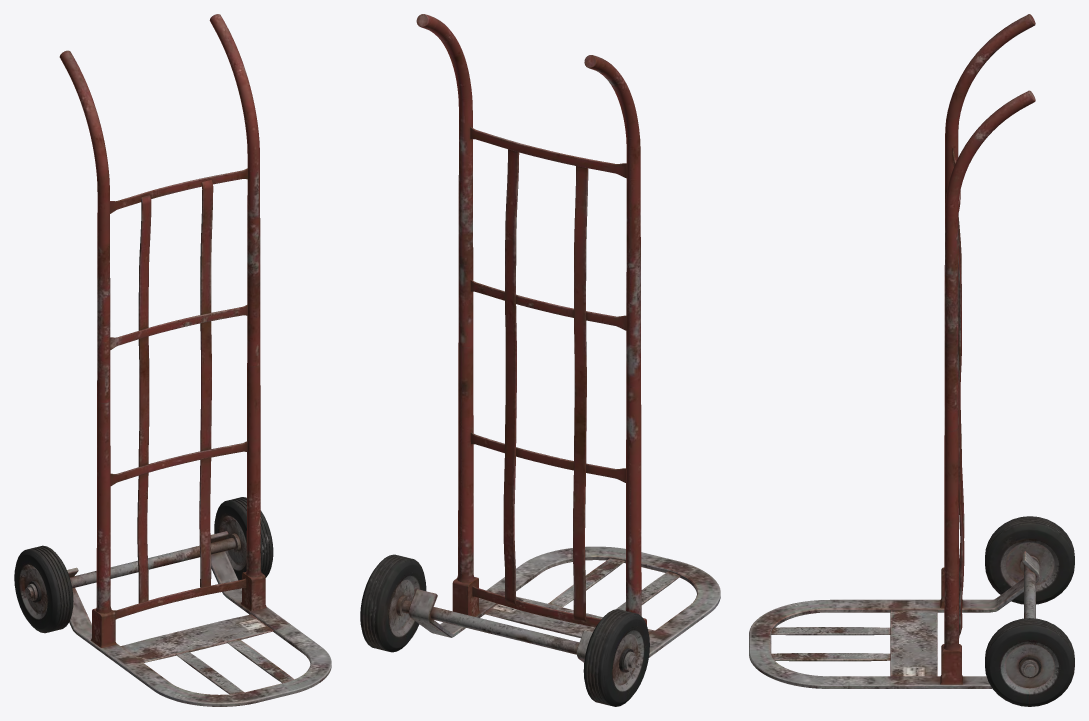
File: hand_truck.glb
3 views of the same model, side by side, from view 1: azimuth 30°, elevation 25°; view 2: azimuth 150°, elevation 25°; view 3: azimuth 270°, elevation 25° (orthographic). The views are drawn at different scales.
Parts seen in each view (by area): view 1: hand_truck; view 2: hand_truck; view 3: hand_truck.
Boxes of the visible parts, box(x1,y1,x2,y2) form: hand_truck: box(14, 14, 331, 706); hand_truck: box(360, 14, 720, 706); hand_truck: box(749, 14, 1074, 706).
Bounding box in the file's own units: 0.5933 × 1.4 × 0.6926.
1 material, 1 textured.
